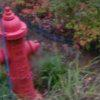Hydrant: (1, 2, 46, 100)
